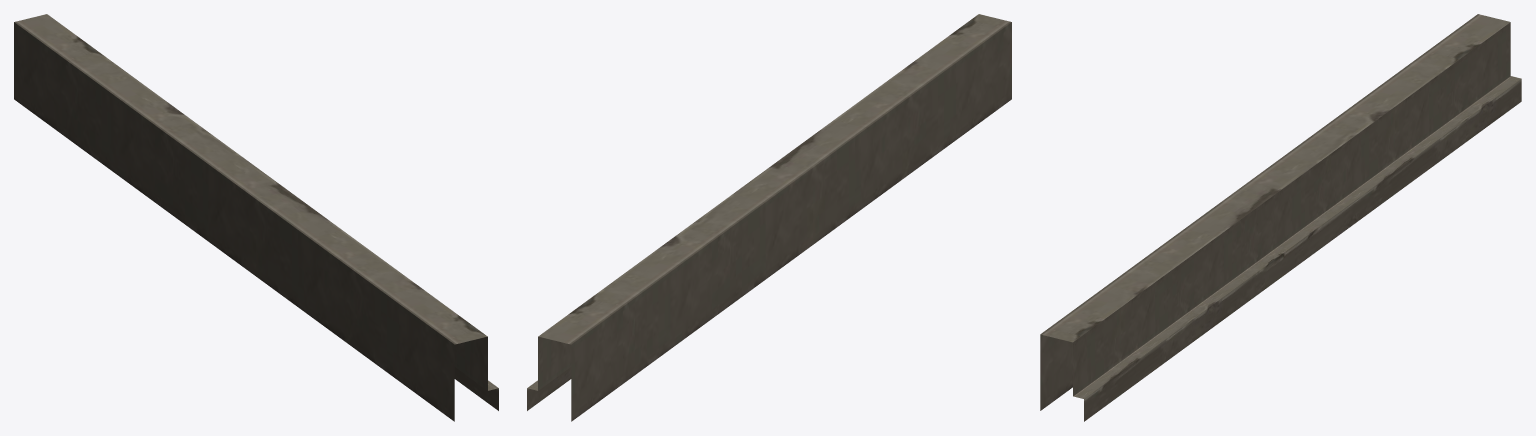
Rendered from Battle04_Cub_07.FBX.
3 renders of one model, left to right at view 1: azimuth 30°, elevation 25°; view 2: azimuth 150°, elevation 25°; view 3: azimuth 330°, elevation 25°, orthographic.
Visible parts, largest first — view 1: Battle04_Cub_07; view 2: Battle04_Cub_07; view 3: Battle04_Cub_07.
Part boxes in pixels (x1,y1,x2,y2): Battle04_Cub_07: (14, 14, 498, 421); Battle04_Cub_07: (527, 14, 1011, 421); Battle04_Cub_07: (1040, 14, 1521, 421).
Bounding box in the file's own units: 1.04 × 1.75 × 18.07.
